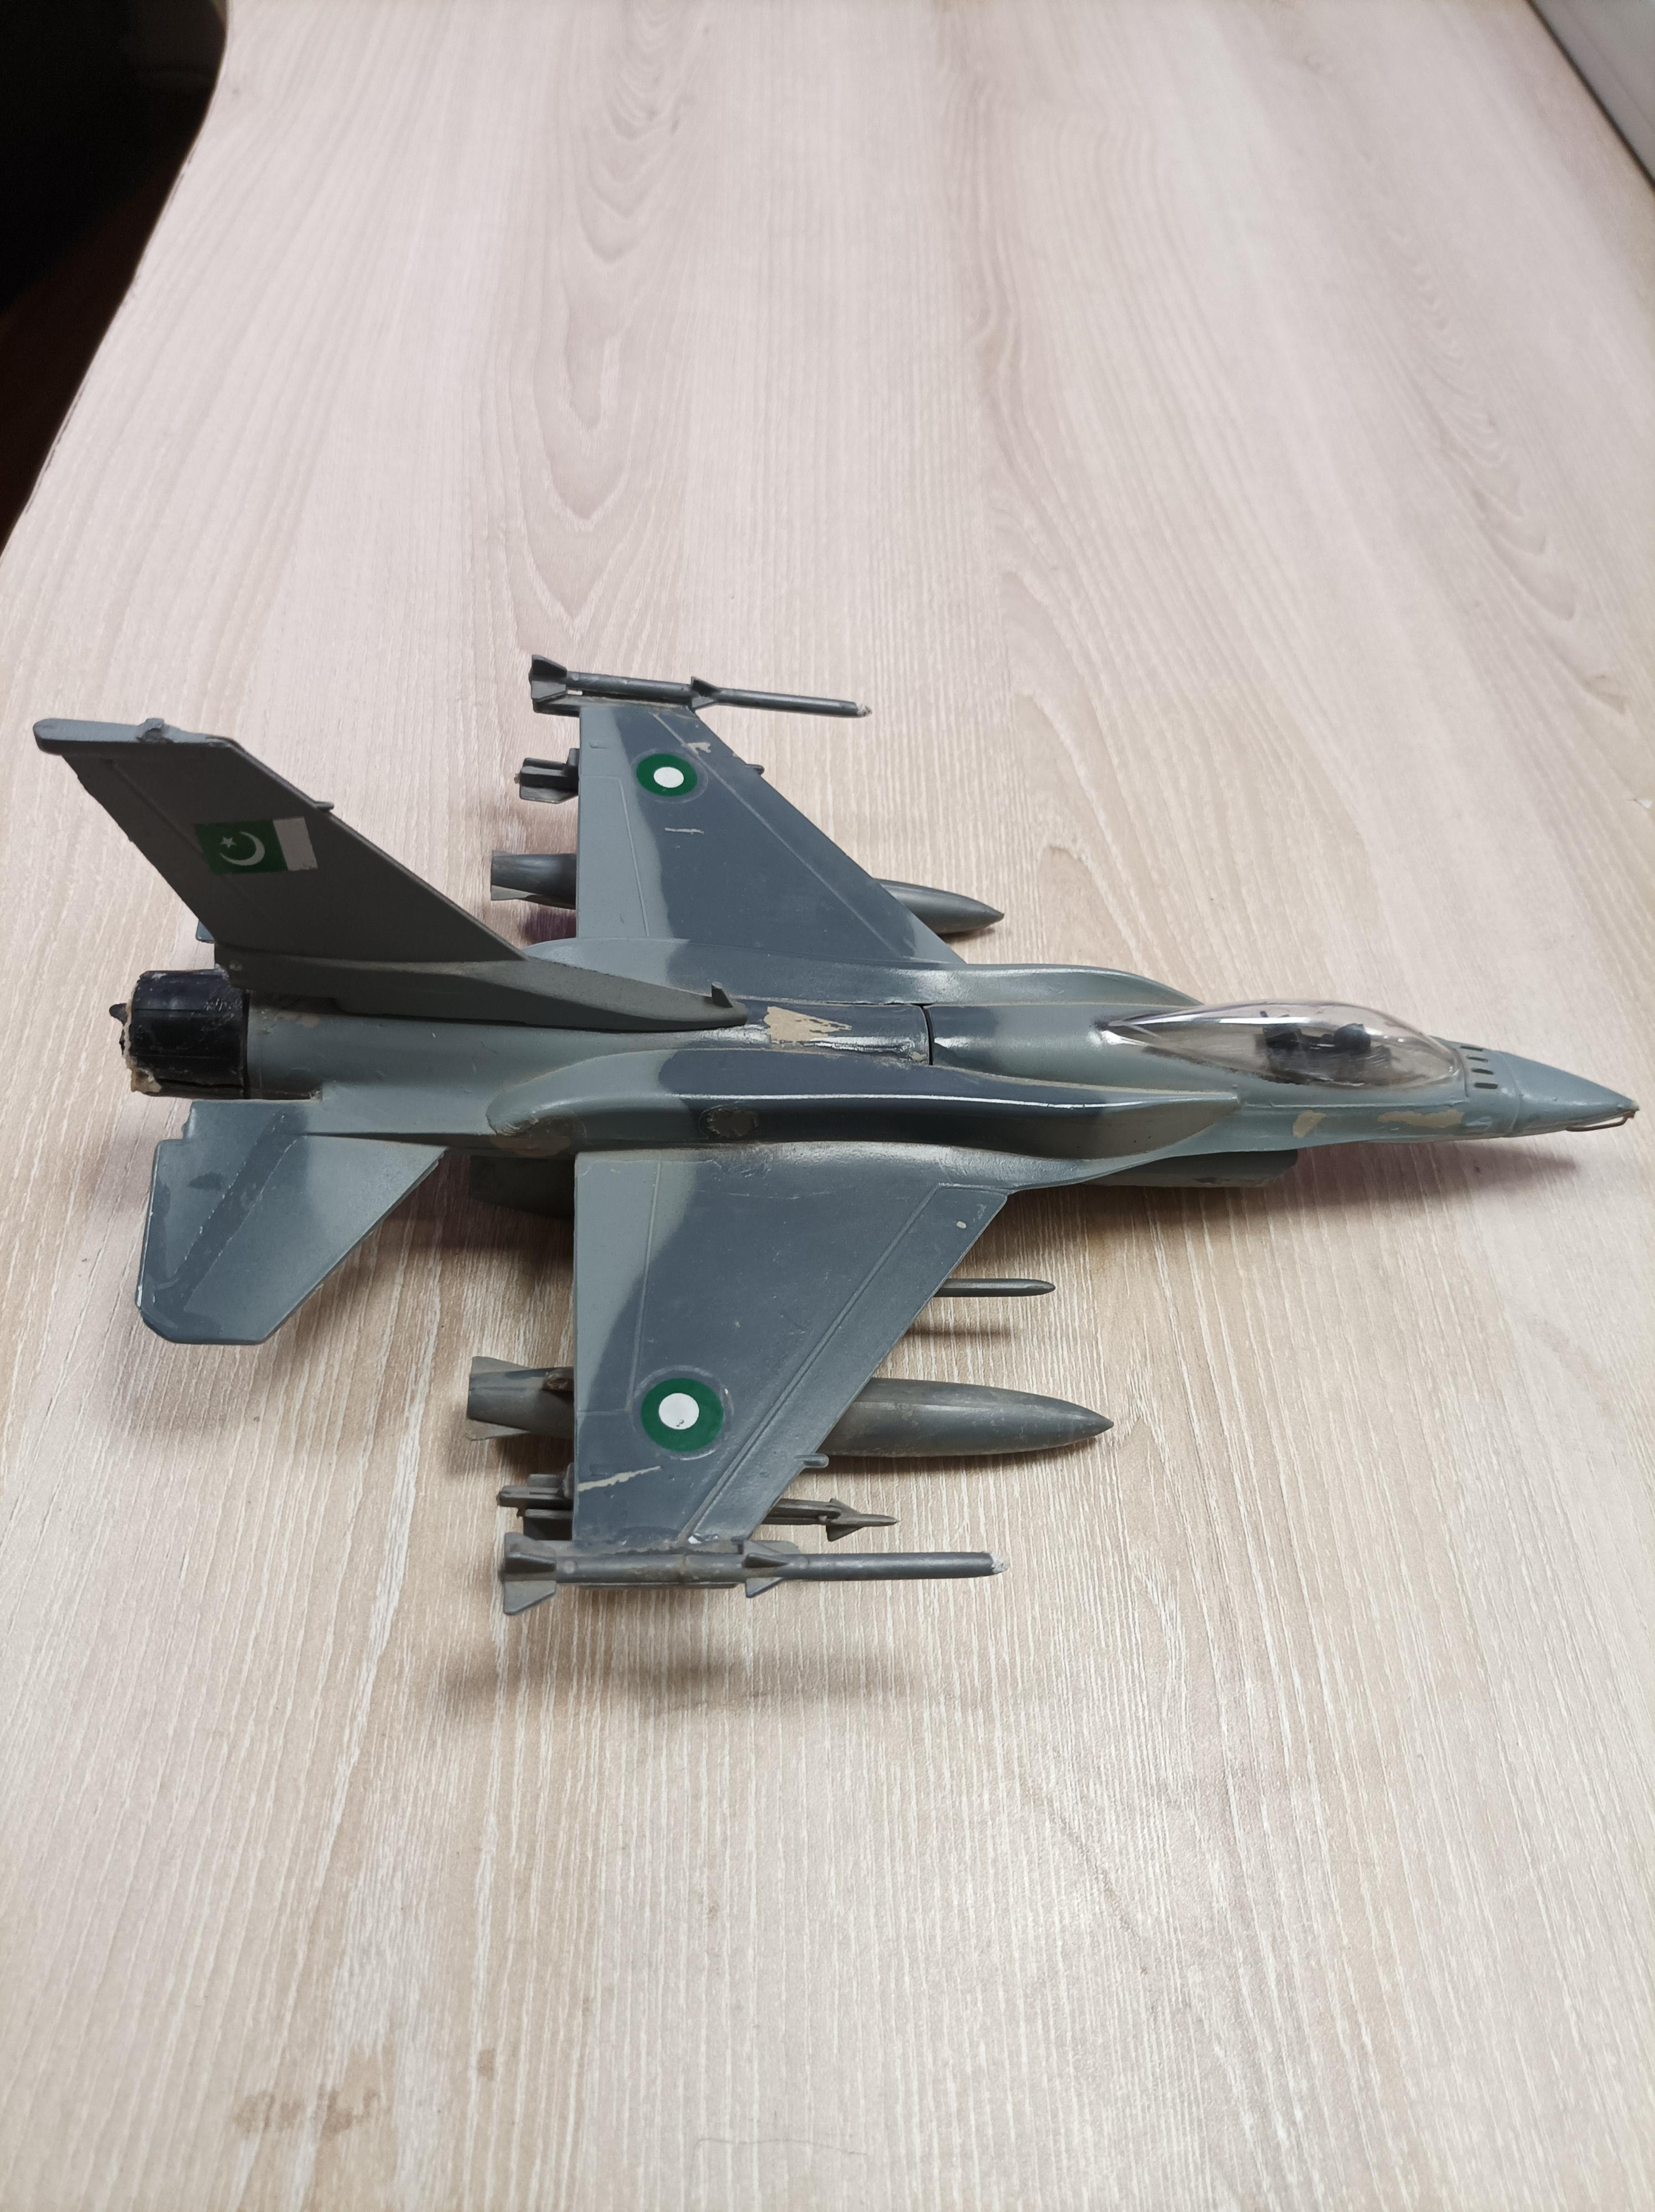Airplane: (24, 626, 1646, 1656)
